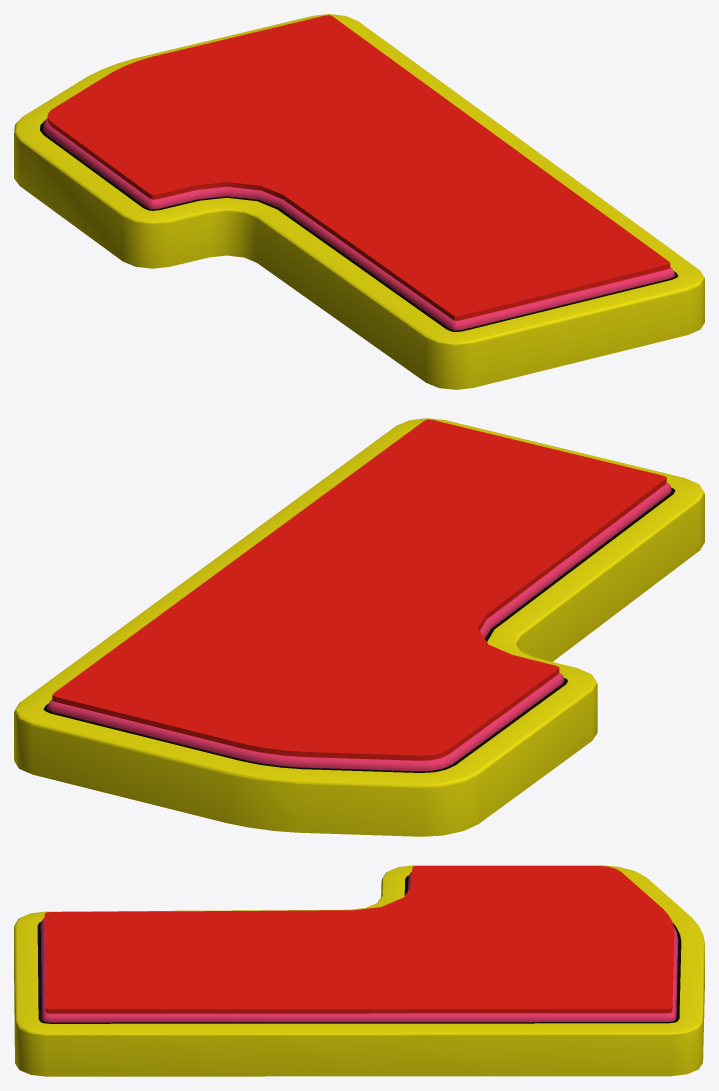
The model's file is Slot_Number_One.fbx.
The picture shows the model from 3 angles, top to bottom: view 1: azimuth 30°, elevation 25°; view 2: azimuth 150°, elevation 25°; view 3: azimuth 270°, elevation 25°; orthographic projection. The views are drawn at different scales.
Parts seen in each view (by area): view 1: Plane; view 2: Plane; view 3: Plane.
Part boxes in pixels (left/top/right/bottom): Plane: left=14, top=14, right=704, bottom=389; Plane: left=14, top=418, right=704, bottom=836; Plane: left=14, top=865, right=704, bottom=1076.
Size of the model in its own units: 255 by 38 by 439.
